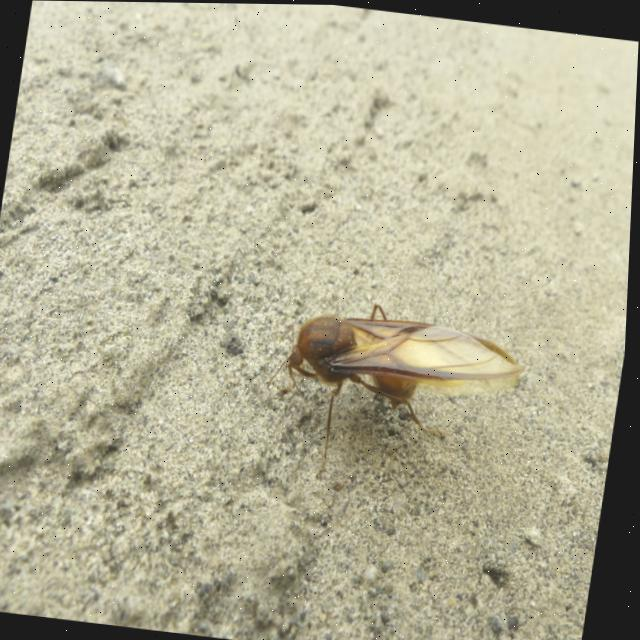Alive-Male-Alate: (258, 289, 536, 496)
